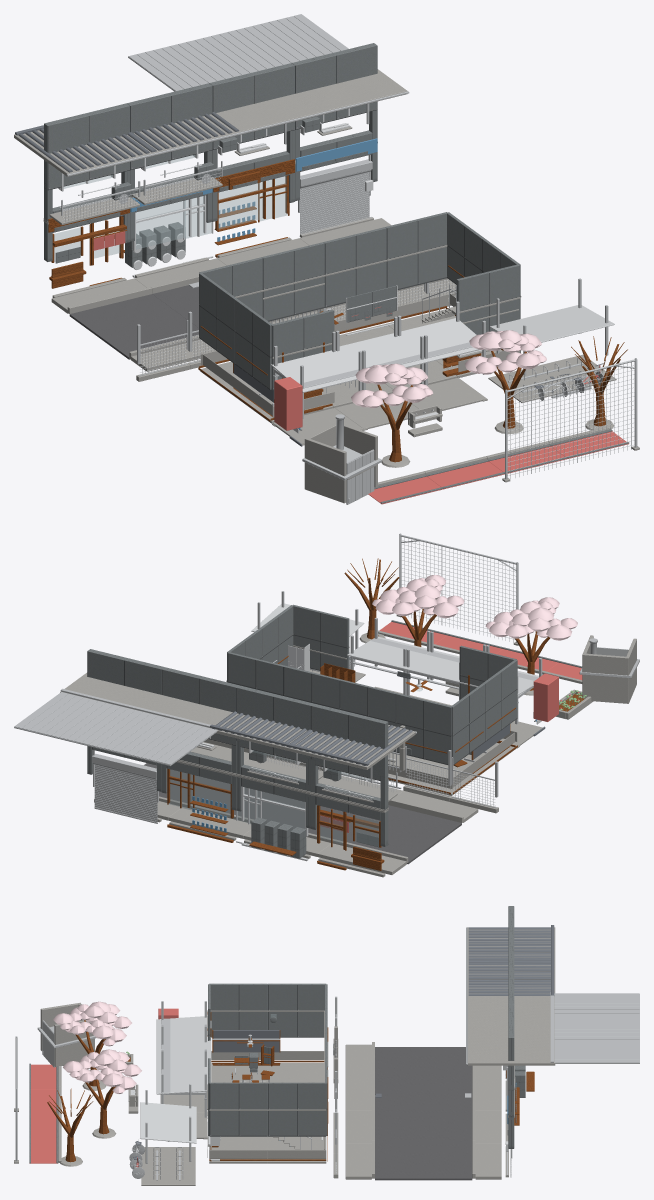
The model's file is japanese-school-grounds.glb.
3 views of the same model, one above another, from view 1: azimuth 30°, elevation 25°; view 2: azimuth 150°, elevation 25°; view 3: azimuth 270°, elevation 25° (orthographic). The views are drawn at different scales.
Parts seen in each view (by area): view 1: 080-backstop-net-frame/0, 010-roof-section-metal/1, 011-roof-section-metal/1, 012-street-road-section/0, 031-corridor-window-wall/0, 004-upper-floor-wall-balcony/0, 033-classroom-wall-plain/0, 032-classroom-wall-plain/0, 005-upper-floor-wall-balcony/0, 007-upper-floor-wall-plain/0, 006-upper-floor-wall-plain/0, 012-street-road-section/2 (+61 smaller); view 2: 010-roof-section-metal/1, 011-roof-section-metal/1, 080-backstop-net-frame/0, 001-shopfront-laundrette/0, 004-upper-floor-wall-balcony/0, 030-classroom-wall-plain/0, 012-street-road-section/0, 005-upper-floor-wall-balcony/0, 039-classroom-wall-window/0, 003-shopfront-shutter/shutter, 012-street-road-section/2, 072-incinerator-shed/0 (+50 smaller); view 3: 015-street-road-section/0, 014-street-road-section/0, 011-roof-section-metal/1, 010-roof-section-metal/1, 013-street-road-drain-section/0, 036-classroom-wall-plain/0, 037-classroom-wall-plain/0, 011-roof-section-metal/0, 012-street-road-section/0, 034-classroom-wall-plain/0, 008-roof-section-tiled/1, 009-roof-section-tiled/1 (+37 smaller).
Boxes of the visible parts, box(x1,y1,x2,y2) form: 080-backstop-net-frame/0: box(505, 358, 637, 482); 010-roof-section-metal/1: box(128, 34, 326, 133); 011-roof-section-metal/1: box(214, 14, 409, 114); 012-street-road-section/0: box(69, 294, 198, 359); 031-corridor-window-wall/0: box(261, 242, 324, 321); 004-upper-floor-wall-balcony/0: box(44, 103, 131, 200); 033-classroom-wall-plain/0: box(385, 212, 447, 289); 032-classroom-wall-plain/0: box(323, 227, 386, 307); 005-upper-floor-wall-balcony/0: box(127, 83, 213, 180); 007-upper-floor-wall-plain/0: box(292, 43, 377, 132); 006-upper-floor-wall-plain/0: box(209, 63, 294, 152); 012-street-road-section/2: box(51, 278, 215, 371); 010-roof-section-metal/1: box(88, 707, 217, 765); 011-roof-section-metal/1: box(14, 688, 143, 747); 080-backstop-net-frame/0: box(399, 533, 518, 642); 001-shopfront-laundrette/0: box(236, 740, 310, 858); 004-upper-floor-wall-balcony/0: box(310, 703, 388, 780); 030-classroom-wall-plain/0: box(395, 693, 451, 764); 012-street-road-section/0: box(340, 805, 461, 864); 005-upper-floor-wall-balcony/0: box(236, 685, 313, 762); 039-classroom-wall-window/0: box(293, 604, 349, 670); 003-shopfront-shutter/shutter: box(94, 765, 157, 823); 012-street-road-section/2: box(317, 791, 478, 874); 072-incinerator-shed/0: box(582, 635, 636, 703); 015-street-road-section/0: box(375, 1145, 472, 1180); 014-street-road-section/0: box(375, 1112, 472, 1145); 011-roof-section-metal/1: box(466, 1026, 639, 1064); 010-roof-section-metal/1: box(466, 992, 639, 1030); 013-street-road-drain-section/0: box(375, 1079, 472, 1112); 036-classroom-wall-plain/0: box(268, 1082, 326, 1136); 037-classroom-wall-plain/0: box(209, 1082, 267, 1136); 011-roof-section-metal/0: box(467, 1026, 555, 1065); 012-street-road-section/0: box(375, 1047, 472, 1079); 034-classroom-wall-plain/0: box(268, 983, 325, 1037); 008-roof-section-tiled/1: box(468, 925, 554, 962); 009-roof-section-tiled/1: box(468, 958, 554, 995).
Size of the model in its own units: 17.45 by 8.07 by 32.13.
12 materials, 4 textured.
